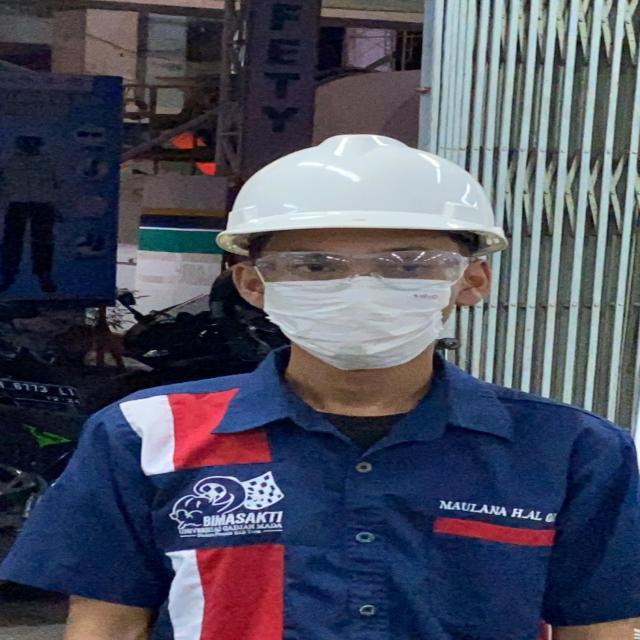glasses: (244, 246, 476, 291)
